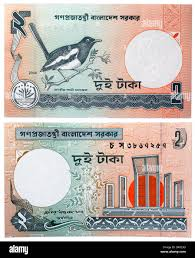2_taka: (8, 128, 189, 232), (10, 10, 185, 111)
